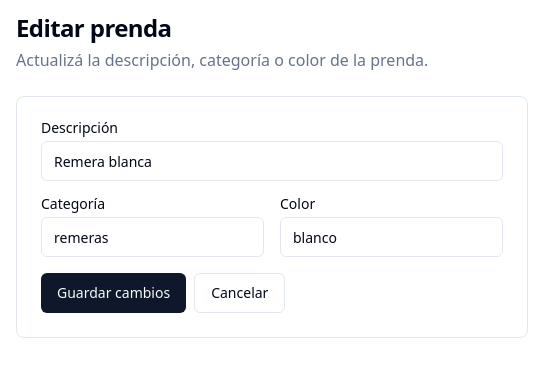
Scenario: EditClothingForm › muestra un mensaje de error si el PUT falla y no redirige
Expected: the field labelled "Descripción" is shown, [41,141,503,181]
Click the button "Guardar cambios" at (114, 293), box [41,273,186,313]
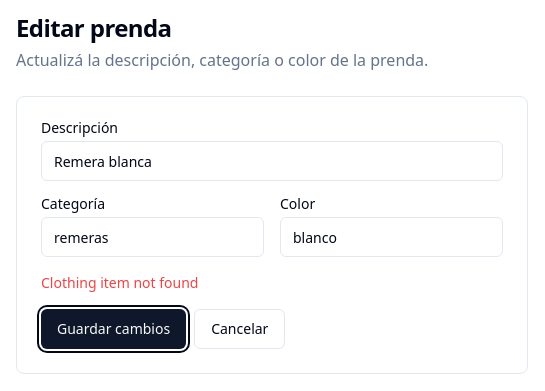
Result: the text "Clothing item not found" is shown at [41,273,198,292]
